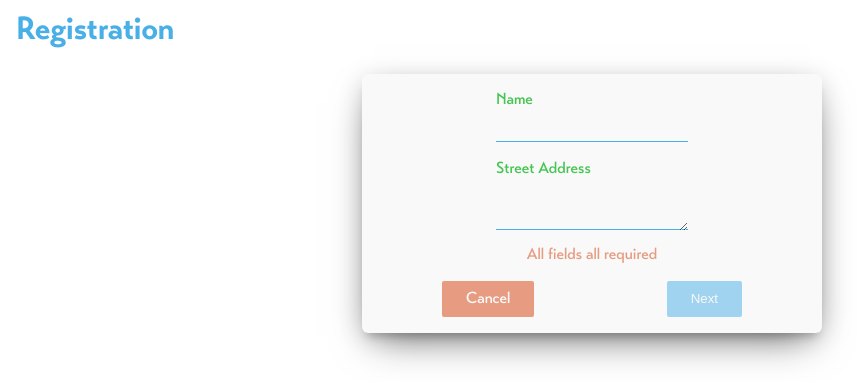
it: Checkout › should move to next step
Check: the heading "Registration" is shown, box [16, 16, 174, 48]
Type "Gastón" into the field named "name".
click(592, 126); type("Gastón")  # box [496, 110, 688, 143]
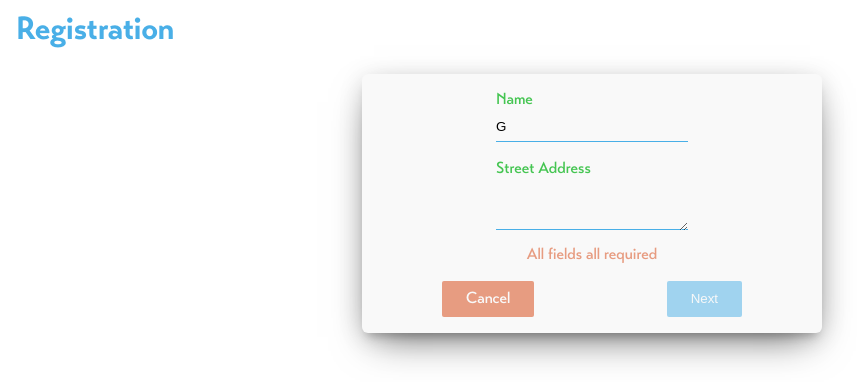
Type "Fake st. 123" into the text box named "address".
click(592, 205); type("Fake st. 123")  # box [496, 179, 688, 231]
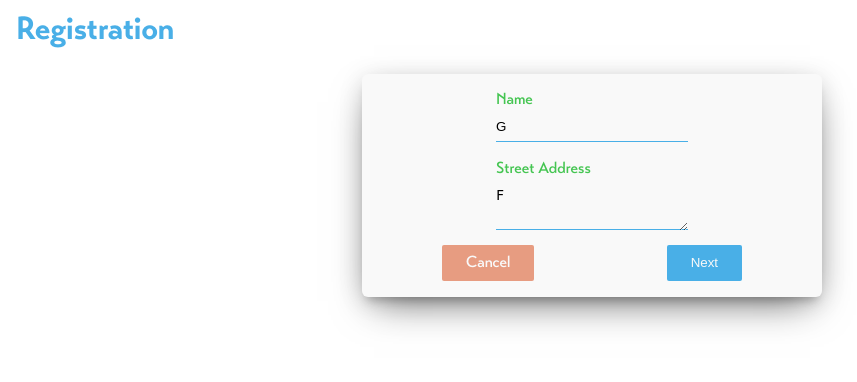
Click the button "Next".
click(704, 263)  # box [667, 245, 742, 281]
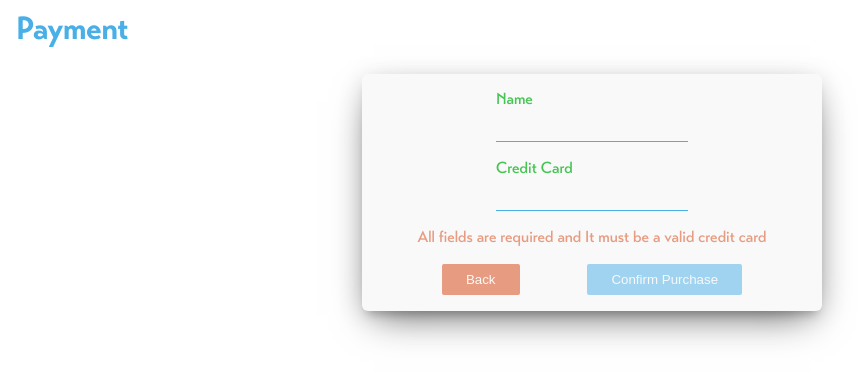
Check: the heading "Payment" is shown, box [16, 16, 129, 48]
